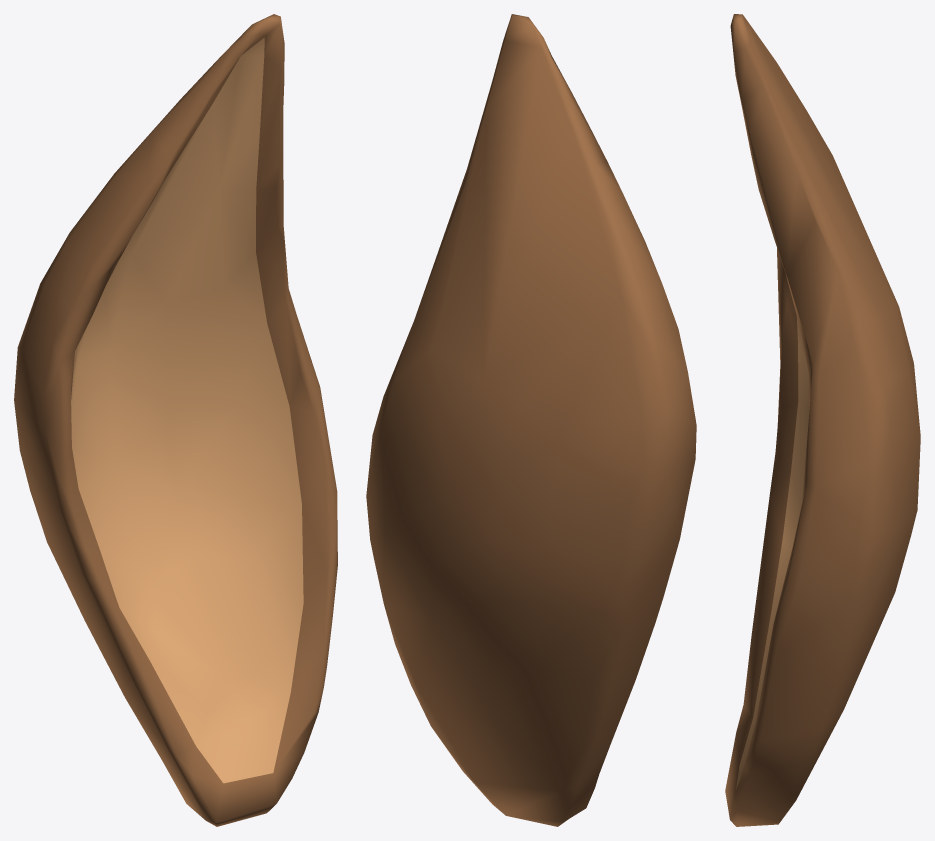
File: Felinear.fbx
3 renders of one model, left to right at view 1: azimuth 30°, elevation 25°; view 2: azimuth 150°, elevation 25°; view 3: azimuth 270°, elevation 25°, orthographic. The views are drawn at different scales.
Visible parts, largest first — view 1: Felinear - zutomayo (Mr Fear); view 2: Felinear - zutomayo (Mr Fear); view 3: Felinear - zutomayo (Mr Fear).
Part boxes in pixels (left/top/right/bottom): Felinear - zutomayo (Mr Fear): left=14, top=14, right=337, bottom=826; Felinear - zutomayo (Mr Fear): left=366, top=14, right=696, bottom=826; Felinear - zutomayo (Mr Fear): left=725, top=14, right=920, bottom=826.
Bounding box in the file's own units: 21.51 × 55.08 × 12.02.
